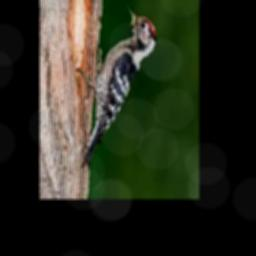Woodpecker: (76, 6, 157, 166)
